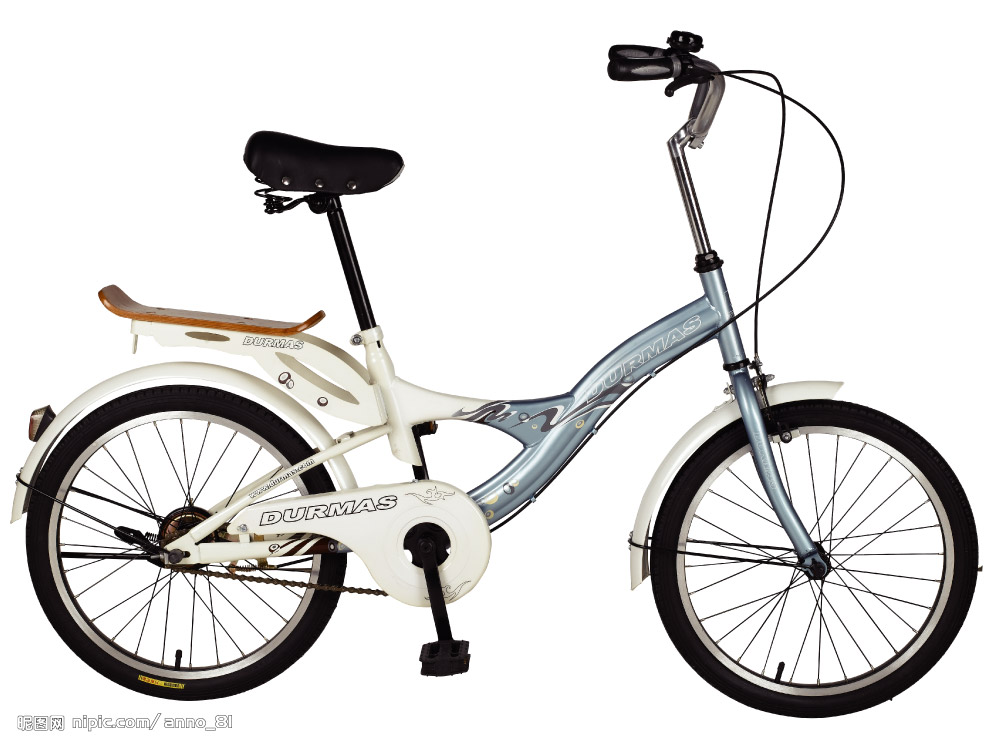bicycle: (1, 1, 1001, 733)
